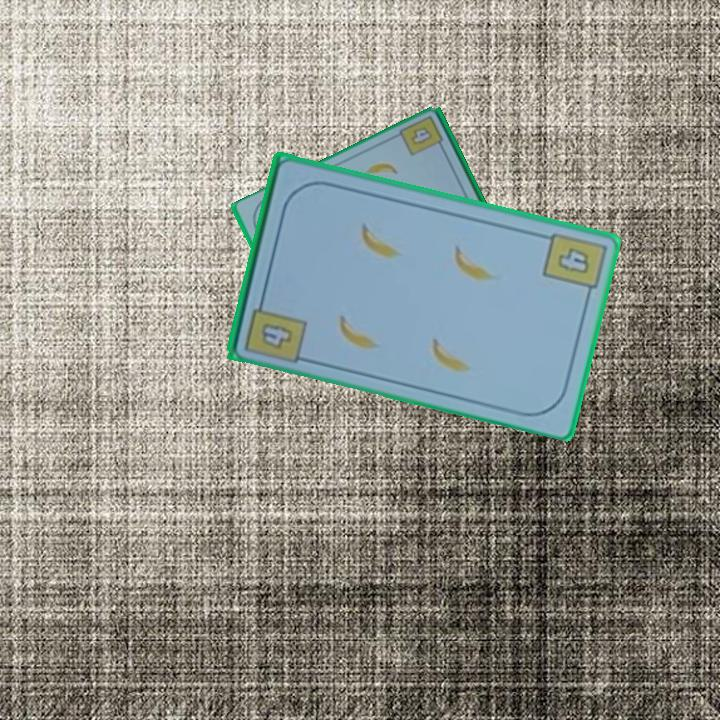4b: (539, 228, 608, 302), (396, 112, 448, 159), (257, 318, 296, 352)
